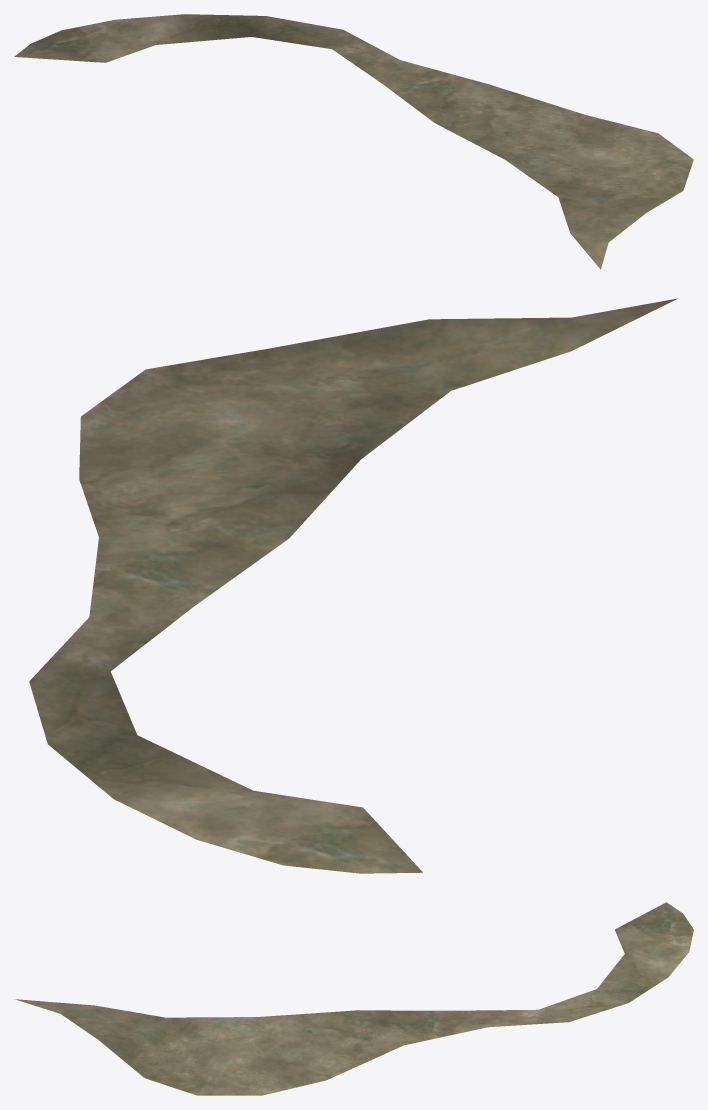
Rendered from EKH_CAVERNS_PS_CA_ISLAND_FLOOR37858.fbx.
3 views of the same model, one above another, from view 1: azimuth 30°, elevation 25°; view 2: azimuth 150°, elevation 25°; view 3: azimuth 270°, elevation 25° (orthographic). The views are drawn at different scales.
Visible parts, largest first — view 1: EKH_CAVERNS_PS_CA_ISLAND_FLOOR37858; view 2: EKH_CAVERNS_PS_CA_ISLAND_FLOOR37858; view 3: EKH_CAVERNS_PS_CA_ISLAND_FLOOR37858.
Boxes of the visible parts, x1,y1,x2,y2 form: EKH_CAVERNS_PS_CA_ISLAND_FLOOR37858: (14,14,693,269); EKH_CAVERNS_PS_CA_ISLAND_FLOOR37858: (29,298,677,873); EKH_CAVERNS_PS_CA_ISLAND_FLOOR37858: (14,902,693,1095).
Size of the model in its own units: 57984 by 1659 by 91390.
Materials: 1 (1 with a texture image).
